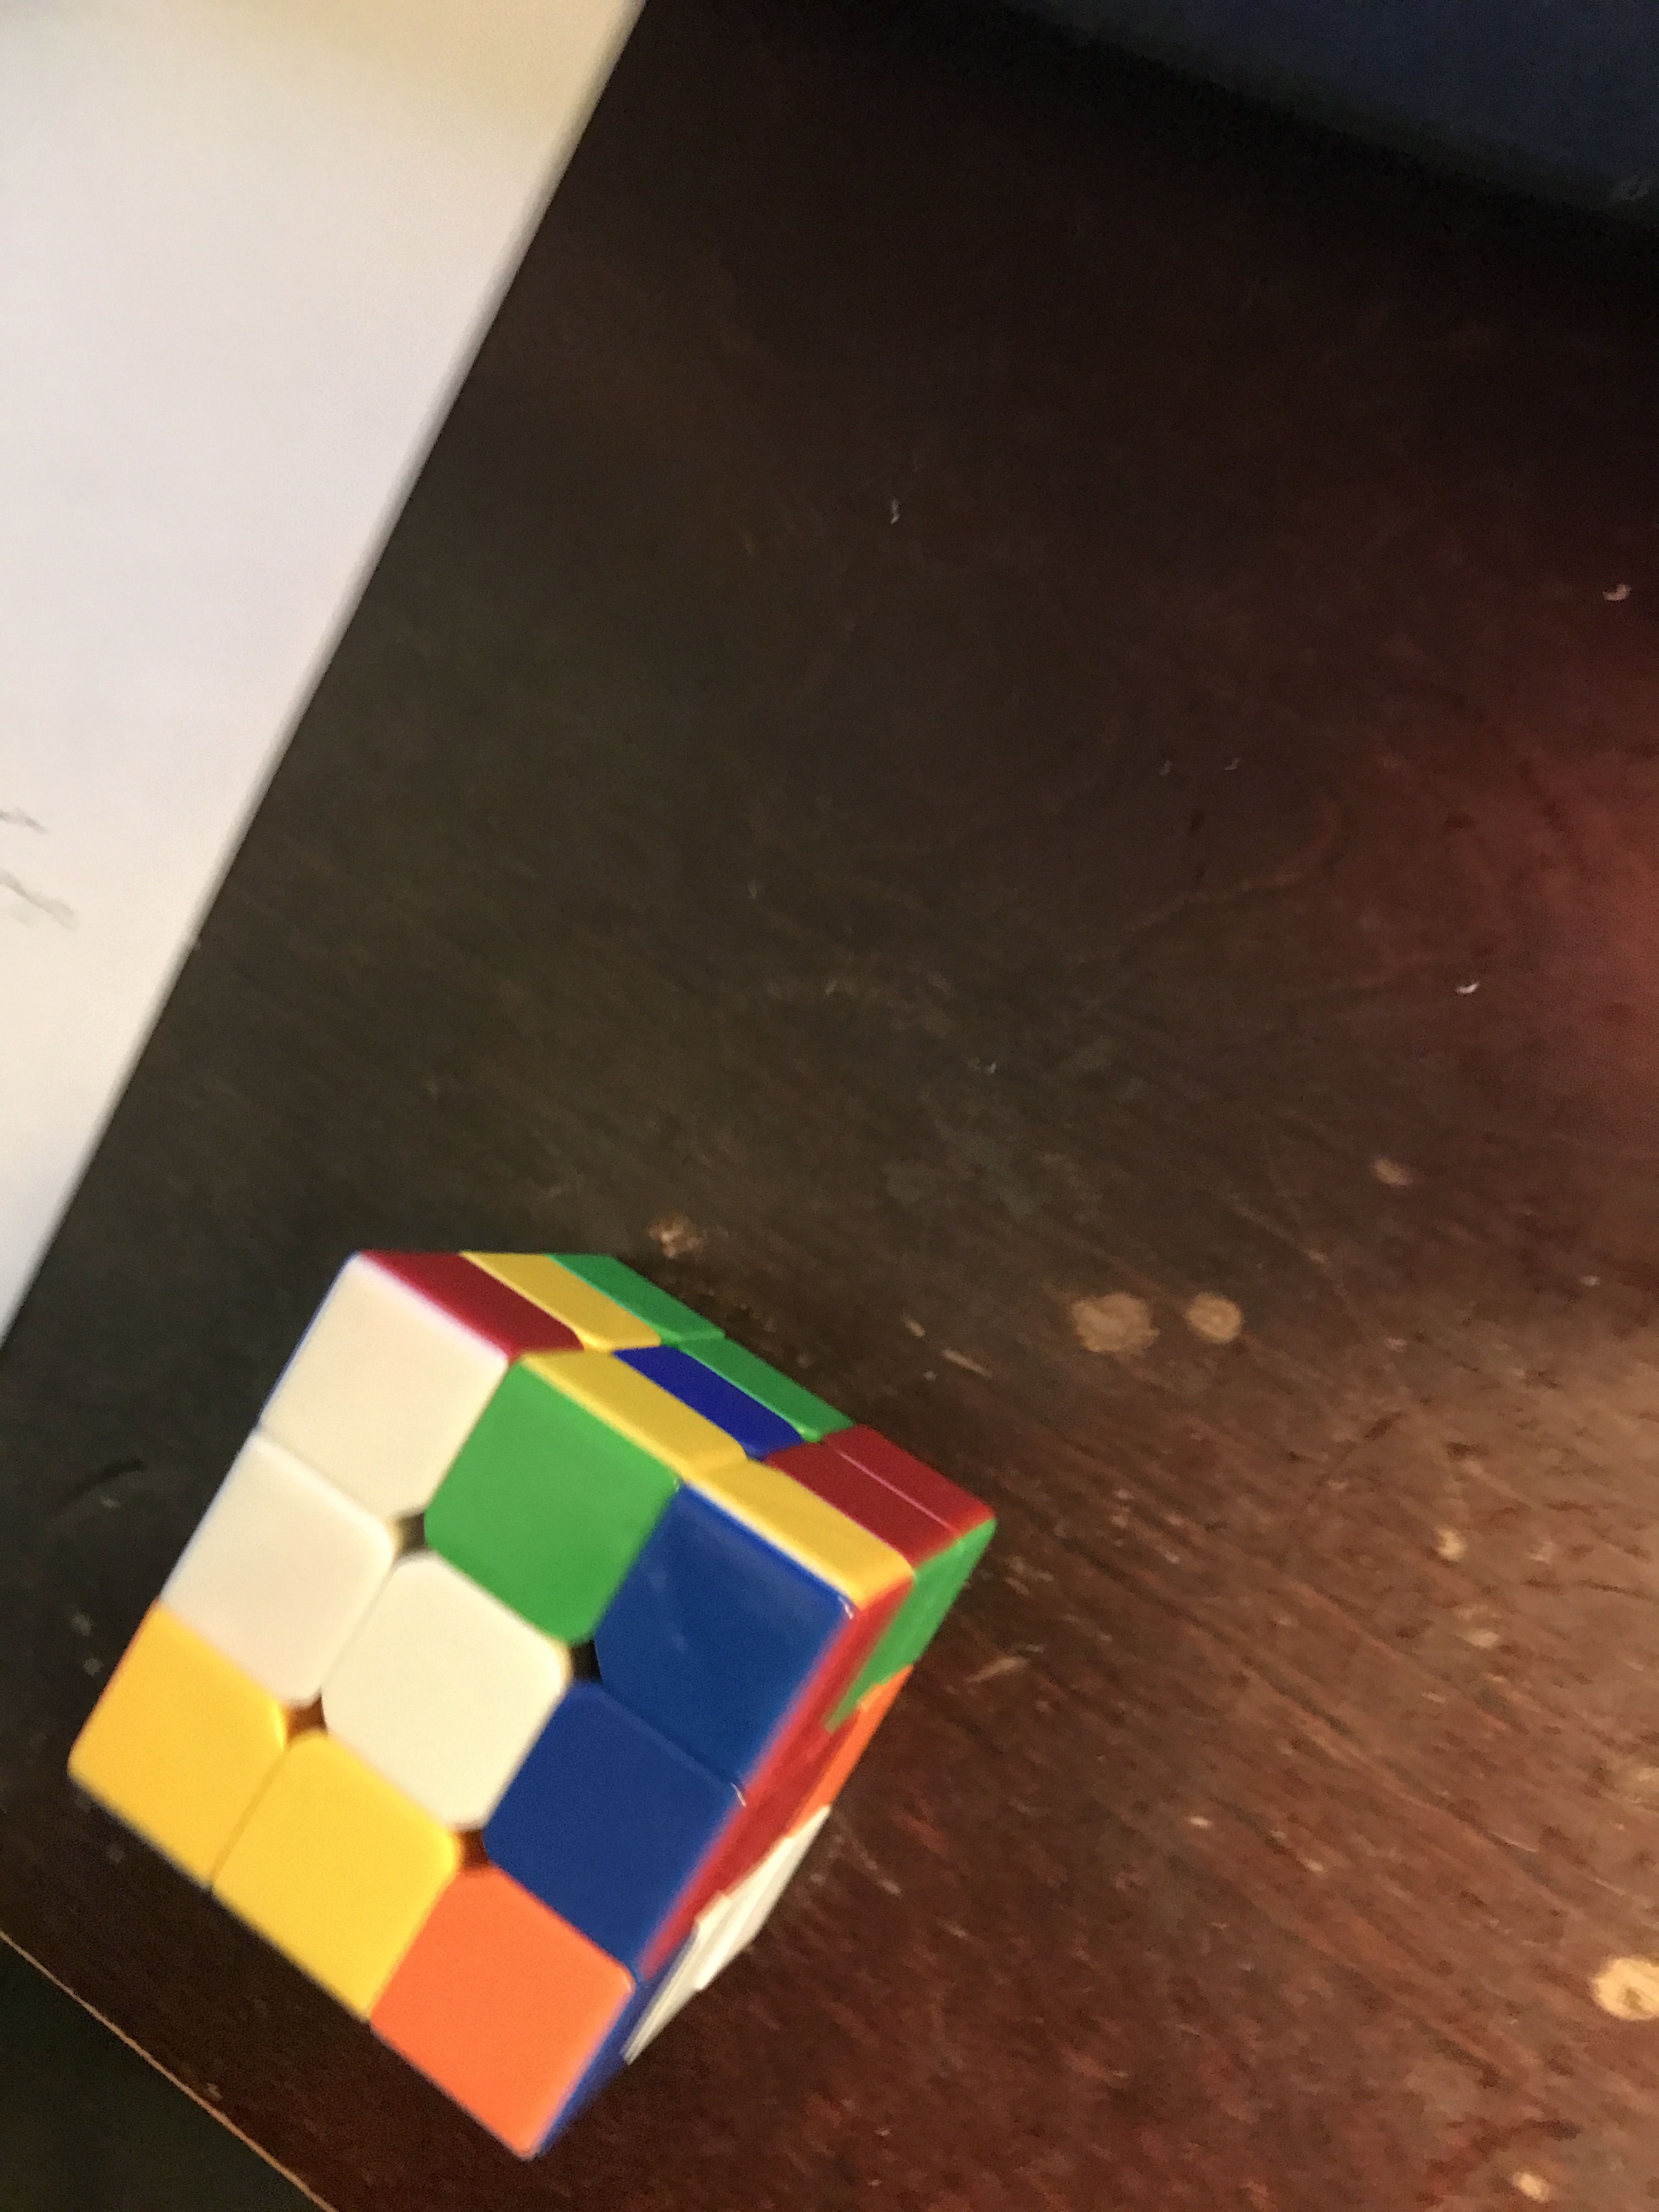rubiks: (63, 1200, 1042, 2179)
